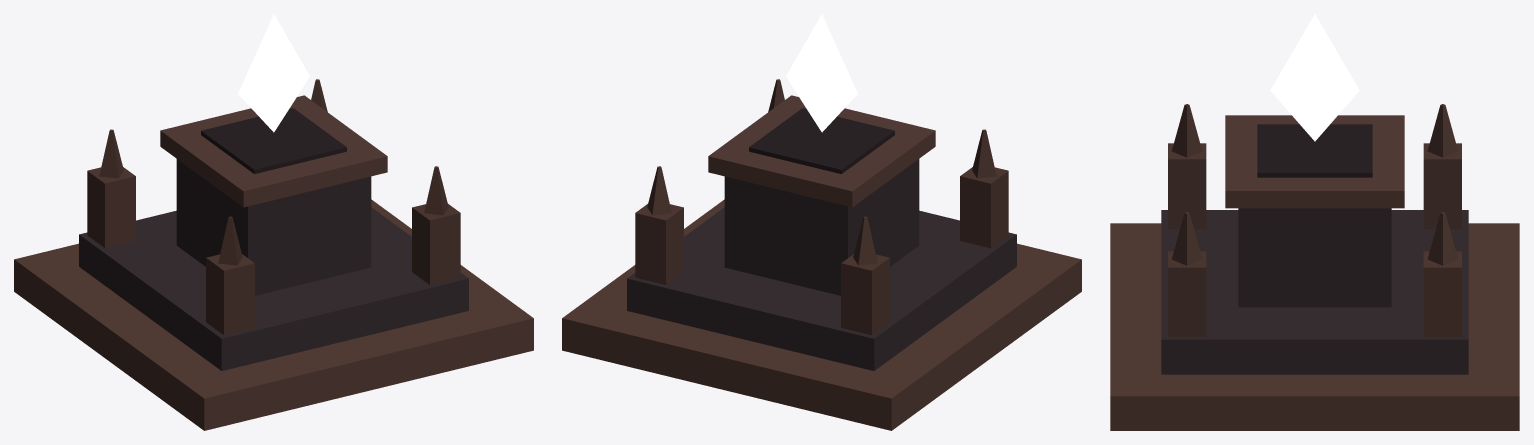
Rendered from altar.glb.
3 renders of one model, left to right at view 1: azimuth 30°, elevation 25°; view 2: azimuth 150°, elevation 25°; view 3: azimuth 270°, elevation 25°, orthographic. The views are drawn at different scales.
Visible parts, largest first — view 1: altar, Crystal; view 2: altar, Crystal; view 3: altar, Crystal.
Boxes of the visible parts, x1,y1,x2,y2 form: altar: (14, 79, 533, 430); Crystal: (238, 14, 309, 132); altar: (562, 79, 1081, 430); Crystal: (786, 14, 857, 132); altar: (1110, 104, 1519, 430); Crystal: (1270, 14, 1359, 141).
Bounding box in the file's own units: 3.2 × 2.85 × 3.2.
